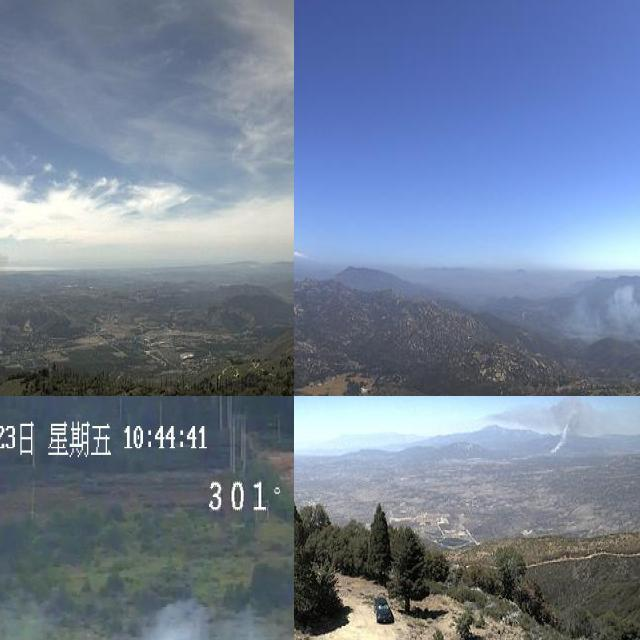smoke: (480, 396, 622, 459), (142, 600, 294, 640), (562, 278, 640, 348)
